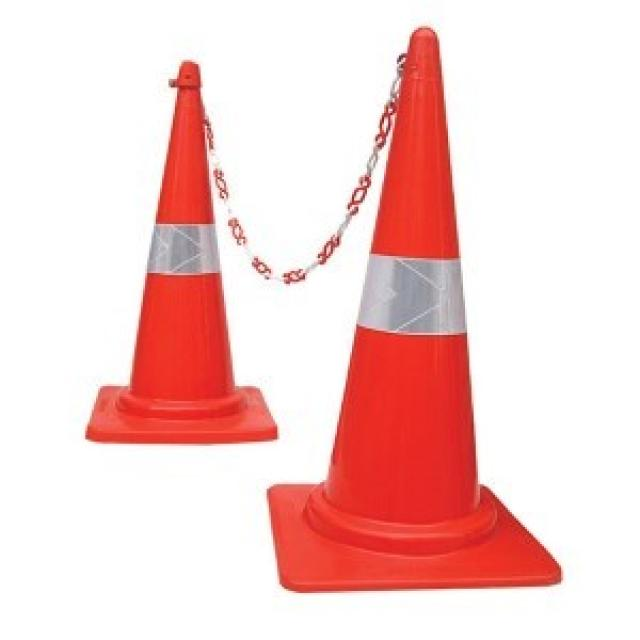Traffic Cone: (265, 23, 561, 591), (83, 58, 275, 442)
